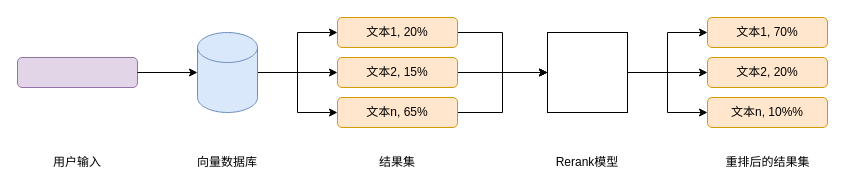
The diagram is 845 pixels wide and 195 high, and some of its shapes have lost their labels. The shapes that lost their labels are listed below. From the top down, each one's centre as x and y in pixels, then its label:
At point 77,72: "问题".
At point 587,72: "Rerank".
